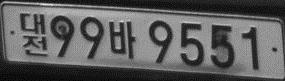1: (239, 26, 263, 69)
5: (180, 22, 204, 66), (210, 24, 234, 67)
9: (49, 14, 75, 57), (78, 15, 104, 58), (147, 18, 172, 62)
대전_V: (19, 12, 48, 56)
바: (109, 20, 136, 59)
